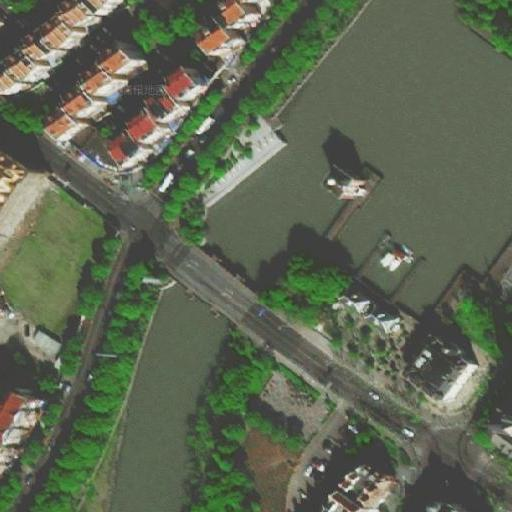building: (102, 49, 213, 162), (46, 41, 146, 144), (397, 324, 478, 404), (0, 388, 52, 473), (318, 463, 394, 512), (204, 7, 254, 51), (363, 299, 411, 343), (342, 279, 384, 319), (77, 133, 114, 171), (26, 313, 62, 343), (490, 412, 512, 459), (421, 498, 477, 512)
